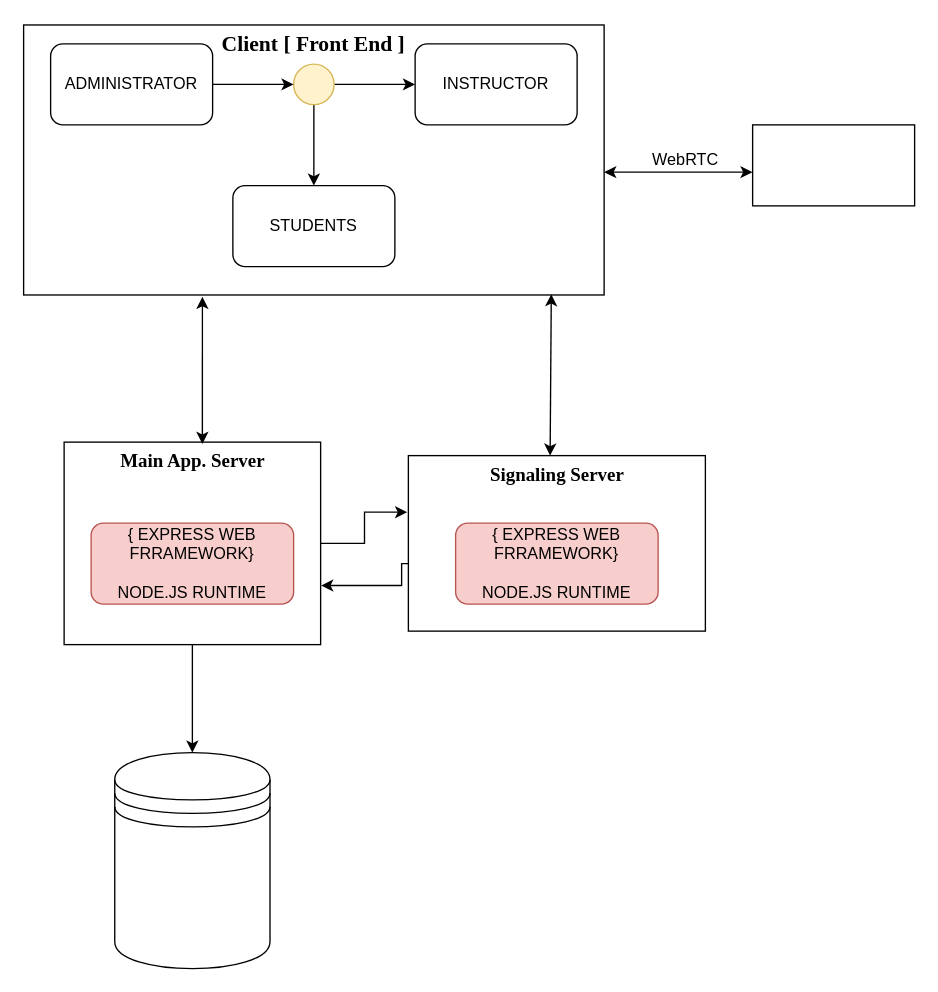
The diagram is 938 pixels wide and 992 high, and some of its shapes have lost their labels. The centre of each missing label's shape, as x and y in pixels:
DATABASE: the point at 191,860
XIRSYS STUN / TURN SERVERS: the point at 833,165
